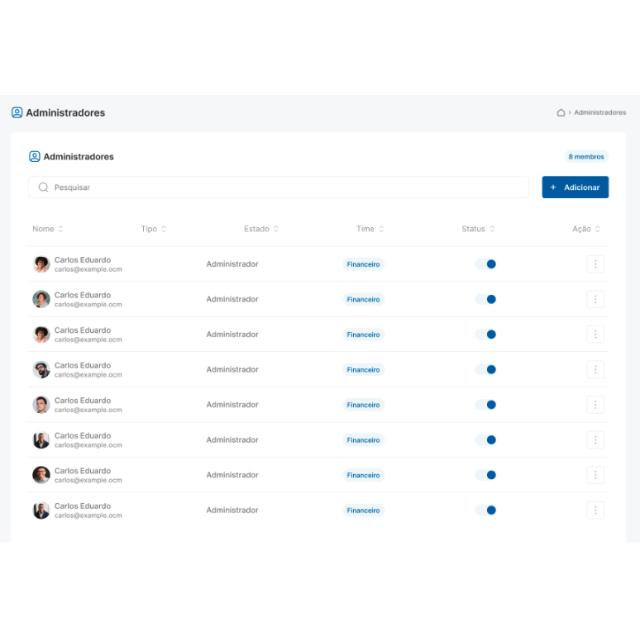QLabel: (10, 131, 626, 545), (26, 108, 104, 116), (44, 152, 114, 160), (564, 182, 600, 190), (574, 154, 604, 158)
VBreadcrumbs: (554, 106, 628, 118)
VBtn: (542, 175, 610, 198), (564, 148, 608, 162)
VDataTable: (26, 214, 614, 530)
VIcon: (28, 149, 40, 161), (11, 106, 23, 118), (550, 182, 556, 190), (569, 154, 573, 158)
VTextField: (28, 174, 530, 198)
